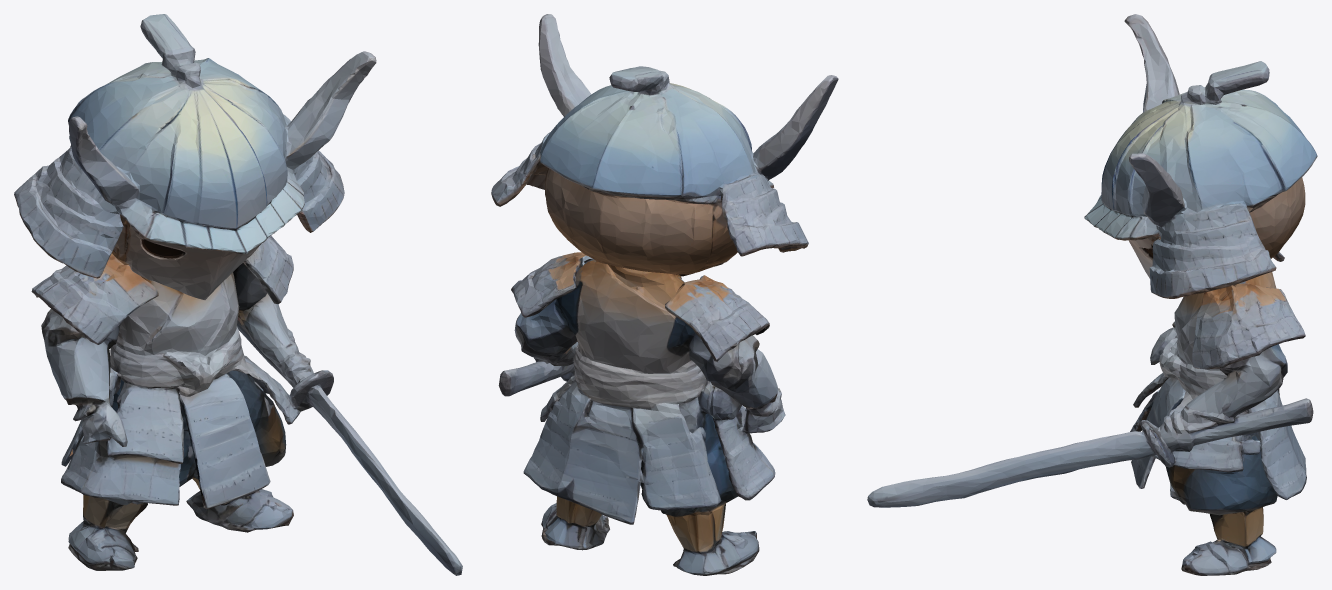
The model's file is Player.A.glb.
The picture shows the model from 3 angles, left to right: view 1: azimuth 30°, elevation 25°; view 2: azimuth 150°, elevation 25°; view 3: azimuth 270°, elevation 25°; orthographic projection. The views are drawn at different scales.
Parts seen in each view (by area): view 1: textured_mesh.obj; view 2: textured_mesh.obj; view 3: textured_mesh.obj.
Part boxes in pixels (bbox=[...]): textured_mesh.obj: bbox=[14, 14, 462, 575]; textured_mesh.obj: bbox=[491, 14, 838, 575]; textured_mesh.obj: bbox=[867, 14, 1317, 575].
Size of the model in its own units: 1.26 by 1.99 by 1.73.
Materials: 1 (1 with a texture image).
